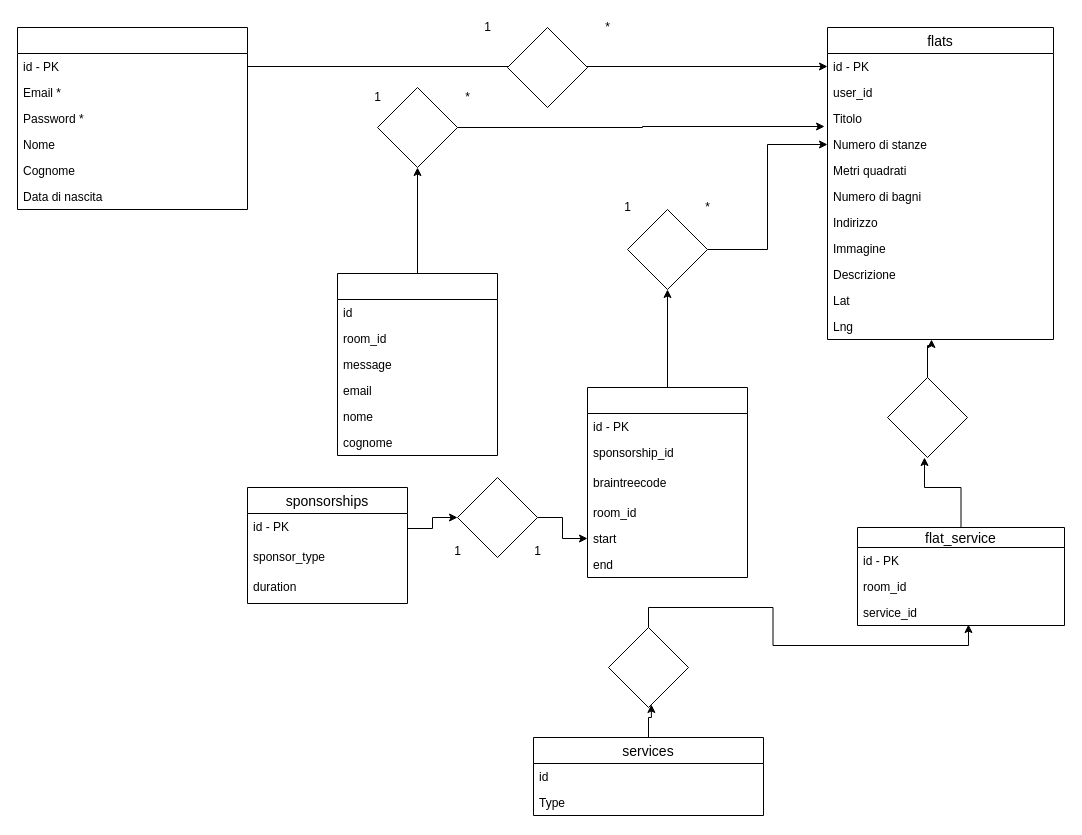
This 1082x835 diagram has some shape labels left out. The box of each missing label's shape, as (x1, y1, x2, y2) in pixels:
flat_sponsorship: (586, 386, 748, 578)
requests: (336, 272, 498, 456)
users: (16, 26, 248, 210)
